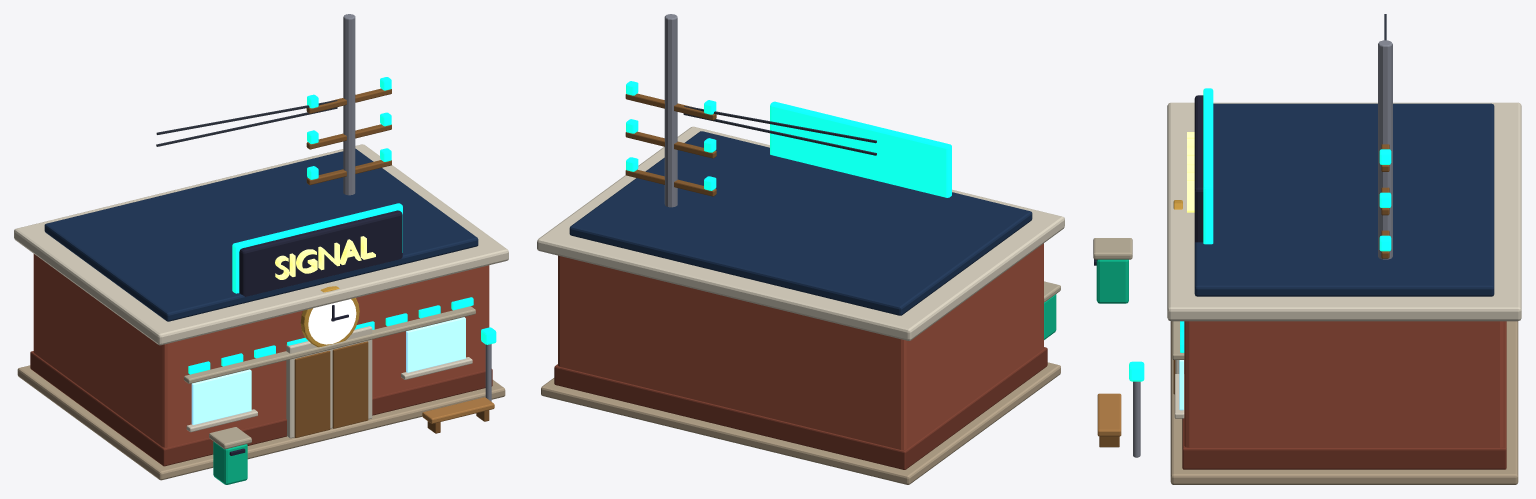
Rendered from signal-office-B5C50J5Z.glb.
3 renders of one model, left to right at view 1: azimuth 30°, elevation 25°; view 2: azimuth 150°, elevation 25°; view 3: azimuth 270°, elevation 25°, orthographic. The views are drawn at different scales.
Parts seen in each view (by area): view 1: roof_slab, hall, cornice, sign_board, base_band, plinth, door_l, door_r, window_l, slot_shelf, window_r, mast (+13 smaller); view 2: hall, roof_slab, cornice, base_band, sign_rim, plinth, mast, cross_1, cross_0, cross_2, wire_1, wire_0; view 3: roof_slab, hall, cornice, plinth, base_band, mast, sign_rim, mailbox_body, sign_board, bench, mailbox_cap, sign_text (+1 smaller).
Part boxes in pixels (box(x1,y1,x2,y2)): roof_slab: box(44, 148, 478, 321); hall: box(33, 254, 489, 447); cornice: box(14, 144, 508, 345); sign_board: box(239, 210, 402, 296); base_band: box(30, 351, 492, 466); plinth: box(17, 365, 505, 480); door_l: box(294, 350, 330, 437); door_r: box(332, 341, 368, 428); window_l: box(191, 369, 251, 424); slot_shelf: box(184, 306, 475, 383); window_r: box(406, 317, 465, 372); mast: box(343, 14, 355, 195); hall: box(558, 243, 1043, 449); roof_slab: box(569, 131, 1032, 315); cornice: box(537, 126, 1064, 340); base_band: box(554, 347, 1047, 469); sign_rim: box(770, 101, 951, 197); plinth: box(541, 362, 1060, 484); mast: box(664, 14, 677, 207); cross_1: box(625, 131, 716, 158); cross_0: box(625, 169, 716, 196); cross_2: box(625, 93, 716, 120); wire_1: box(683, 113, 876, 155); wire_0: box(684, 106, 876, 143); roof_slab: box(1194, 103, 1494, 296); hall: box(1184, 321, 1504, 447); cornice: box(1167, 102, 1521, 321); plinth: box(1170, 321, 1518, 484); base_band: box(1182, 321, 1506, 469); mast: box(1378, 40, 1392, 259); sign_rim: box(1203, 88, 1213, 244); mailbox_body: box(1096, 259, 1128, 303); sign_board: box(1194, 95, 1203, 242); bench: box(1097, 393, 1121, 436); mailbox_cap: box(1093, 238, 1132, 259); sign_text: box(1187, 132, 1194, 212).
Size of the model in its own units: 14.4 by 13.05 by 12.57.
